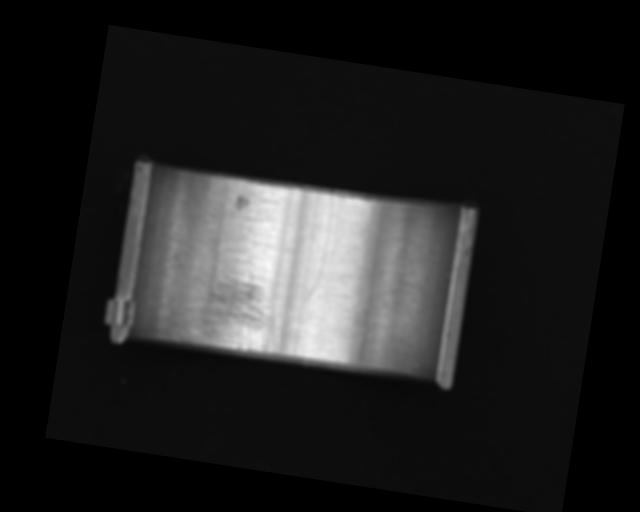bruise: (234, 194, 251, 213)
nick: (303, 189, 336, 305)
scratch: (177, 261, 292, 358)
